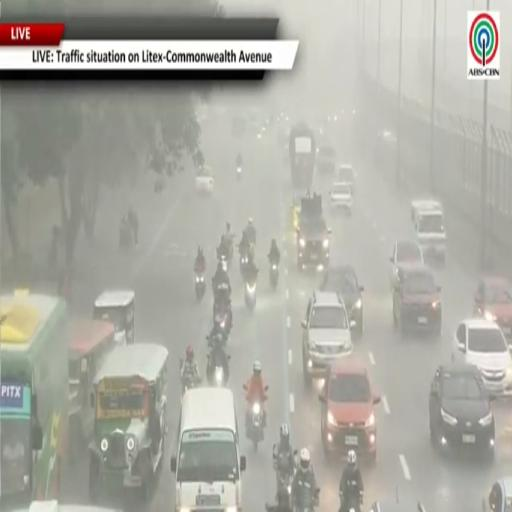bus: (0, 291, 68, 509)
car: (319, 358, 380, 459), (429, 363, 494, 457), (301, 292, 353, 386), (452, 318, 511, 395), (393, 264, 441, 335), (321, 265, 363, 337), (474, 277, 511, 349), (390, 240, 424, 291), (415, 208, 446, 262), (11, 501, 121, 511), (482, 476, 511, 511), (374, 130, 396, 171), (370, 495, 425, 511), (411, 198, 443, 225), (330, 182, 352, 215), (316, 144, 336, 173), (336, 164, 354, 196), (195, 167, 214, 195)
jeepney: (89, 344, 168, 502), (69, 319, 115, 459), (93, 291, 135, 345), (291, 195, 300, 233)
motorcycle: (273, 444, 296, 497), (207, 340, 230, 387), (248, 402, 263, 452), (294, 488, 320, 511), (214, 303, 232, 335), (340, 492, 362, 511), (181, 377, 200, 396), (245, 281, 256, 310), (195, 270, 205, 300), (120, 226, 133, 249), (269, 262, 279, 289), (214, 365, 225, 387), (239, 252, 249, 276), (227, 233, 233, 266), (220, 255, 227, 271), (237, 166, 242, 180)
truck: (297, 194, 330, 270), (289, 123, 315, 188)
